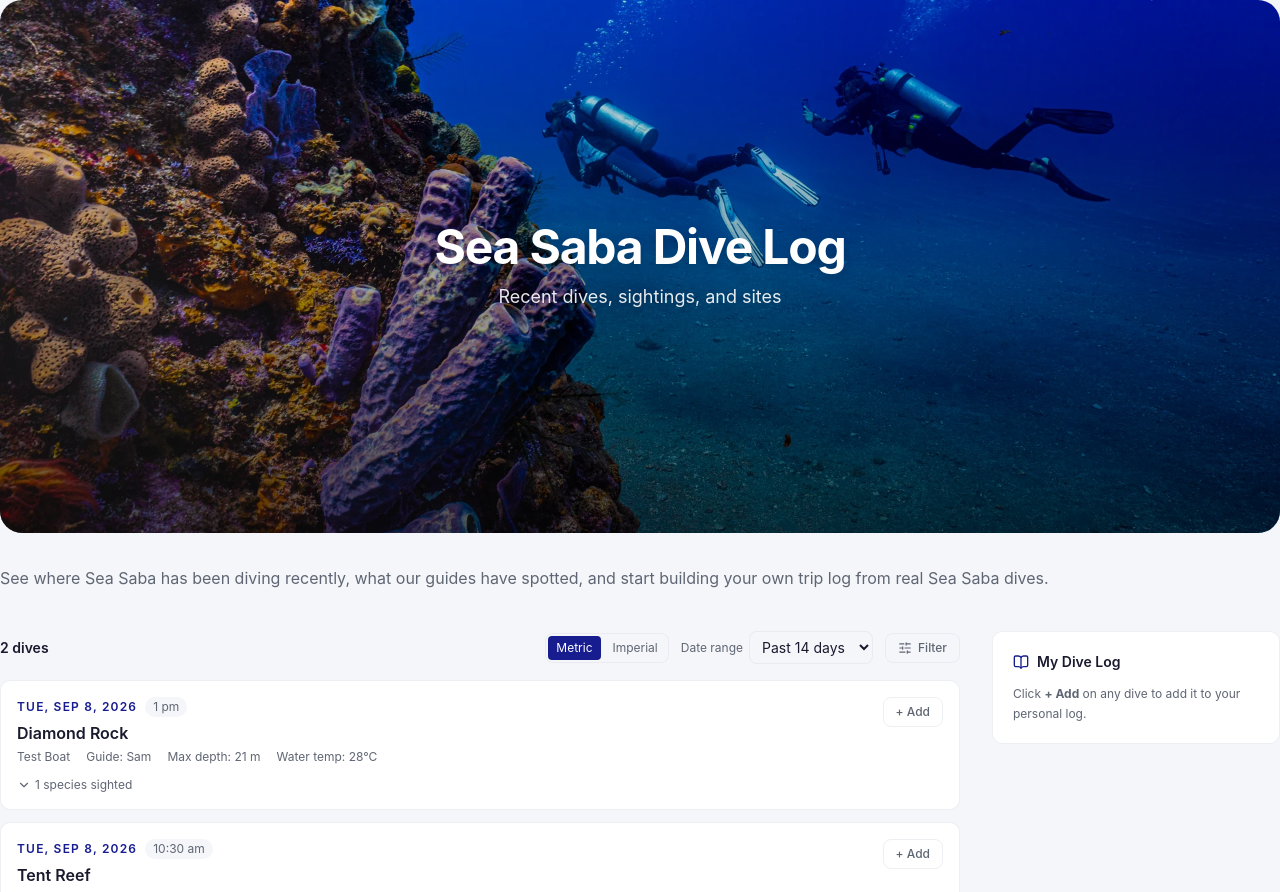
politely announces while the PDF is being prepared
The width and height of the screenshot is (1280, 892).
Expected: the heading "2 dives" is shown, [0, 638, 49, 658]
What coordinates should you click on to do the following:
click the button with aria-label "Add Tent Reef to my dive log"
I would click on:
 (913, 854)
Its box is [882, 839, 943, 869].
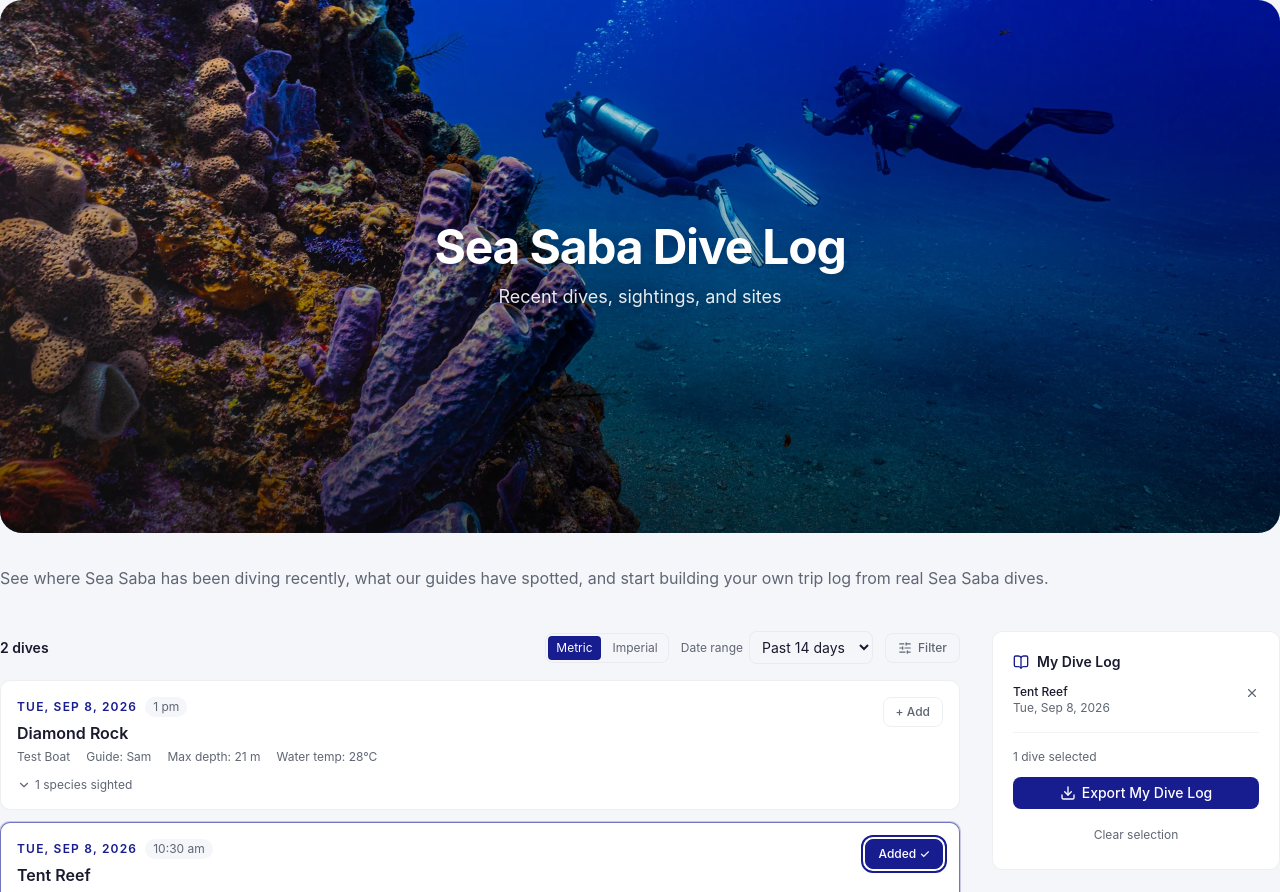
What coordinates should you click on to do the following:
click the button "Export My Dive Log"
I would click on:
 (1136, 793)
Its box is [1013, 777, 1259, 809].
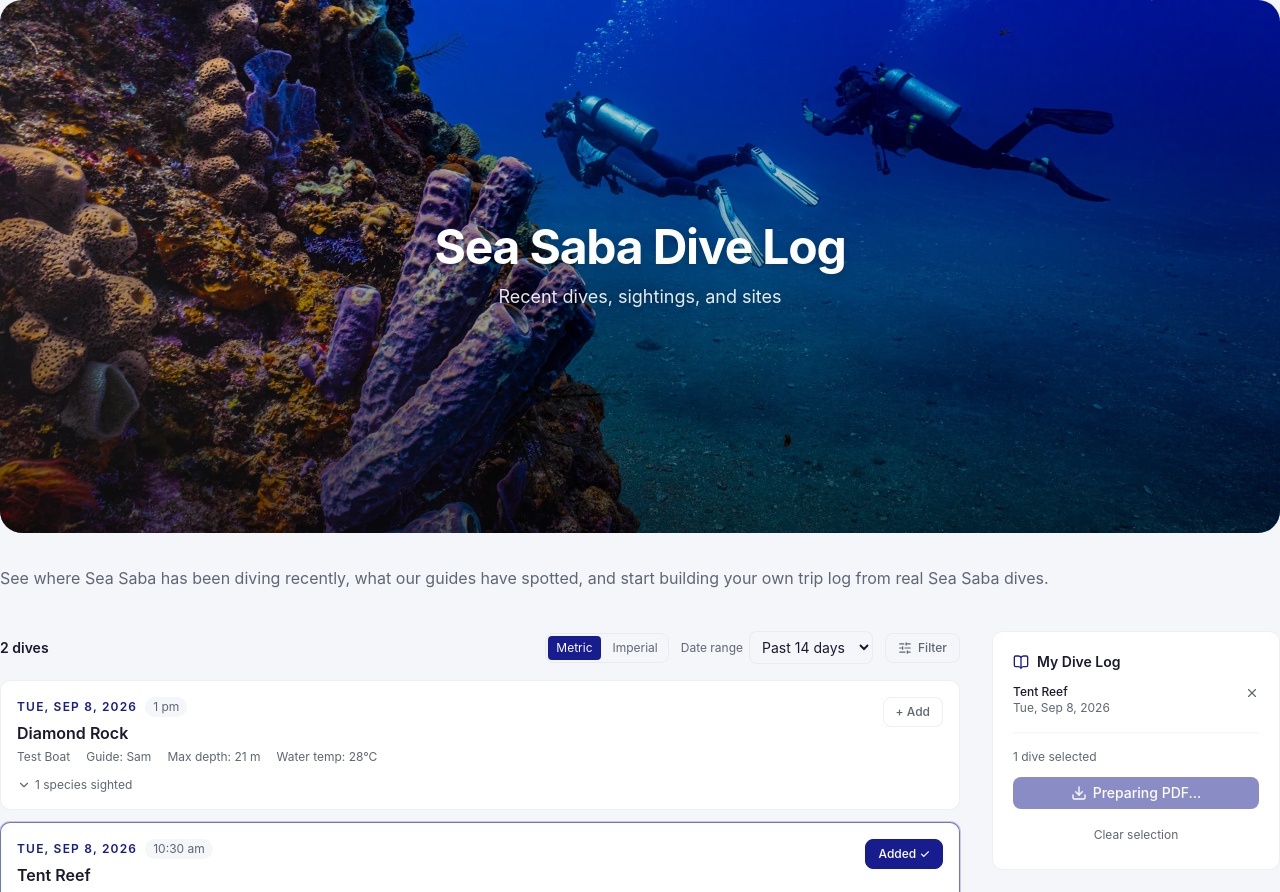
Now the button "Preparing PDF..." is disabled, box [1013, 777, 1259, 809]
